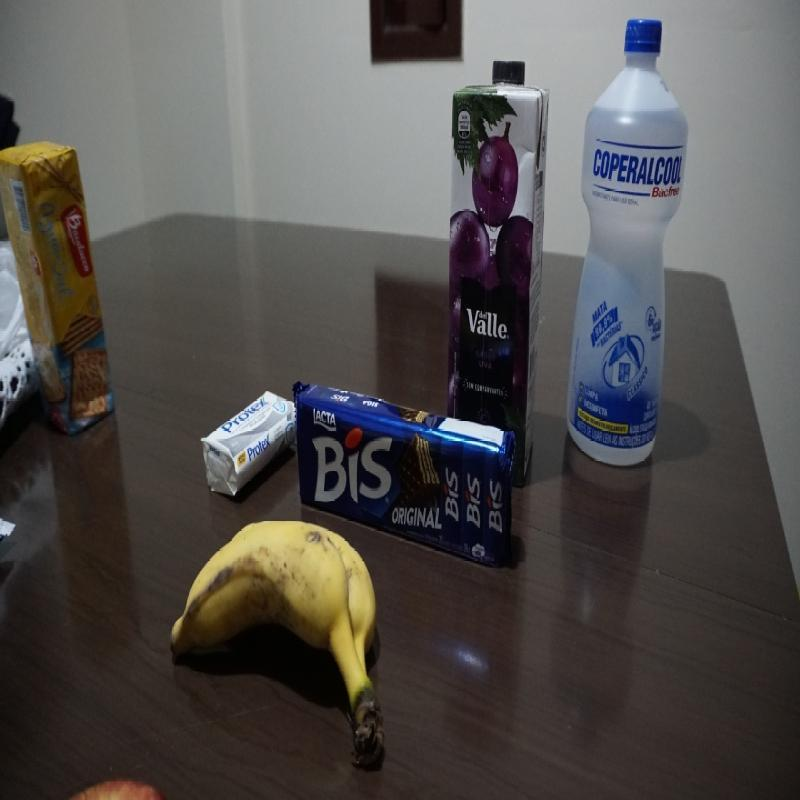Alcohol Bottle: (564, 20, 688, 470)
Banana: (166, 518, 388, 762)
Cracker: (1, 132, 117, 438)
Soap: (200, 387, 303, 502)
